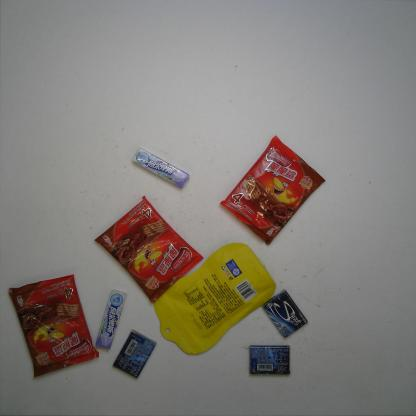Candy: (132, 146, 190, 190), (94, 290, 126, 350)
Dessert: (94, 195, 205, 304), (219, 135, 328, 245), (6, 273, 100, 379)
Dried Fruit: (153, 242, 277, 356)
Gum: (262, 288, 310, 339), (112, 328, 157, 380), (247, 343, 292, 376)
